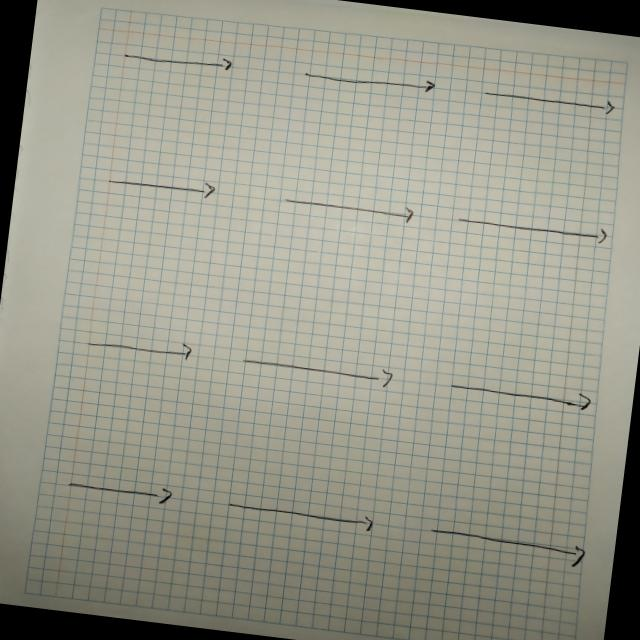arrow_line_right: (412, 506, 602, 578), (227, 336, 406, 401), (211, 481, 382, 542), (436, 361, 598, 422), (444, 203, 618, 254), (290, 55, 450, 106), (468, 76, 622, 127), (270, 180, 420, 230), (107, 36, 252, 84), (50, 462, 184, 512), (74, 324, 200, 374), (98, 161, 222, 208)
